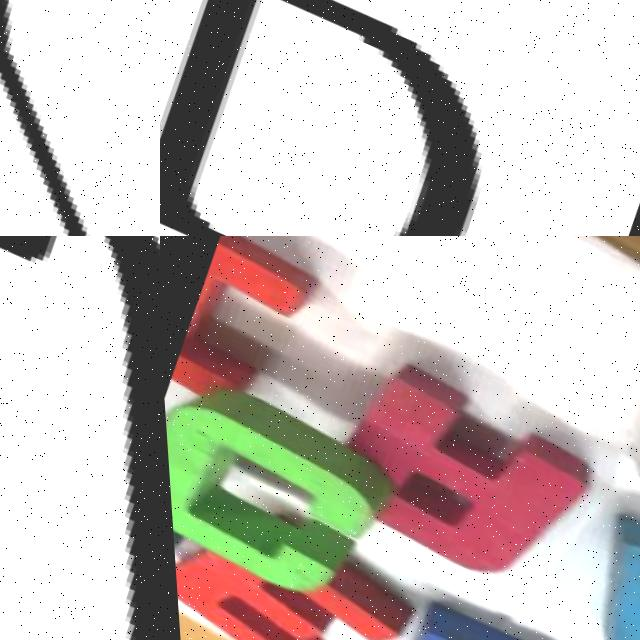A: (304, 340, 592, 598)
B: (346, 590, 603, 640)
C: (160, 381, 387, 612)
E: (165, 494, 419, 640)
J: (0, 236, 160, 640)
P: (160, 0, 476, 236), (525, 499, 640, 640)
Y: (0, 0, 160, 236)
